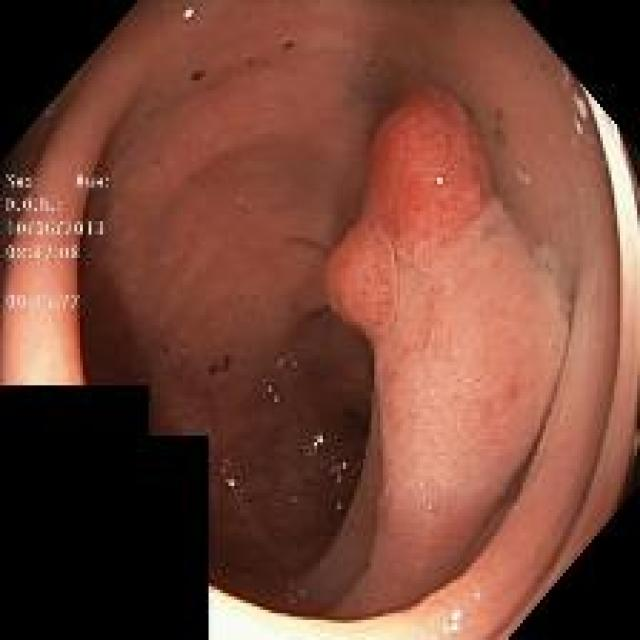Polyps: (361, 88, 492, 266), (325, 224, 396, 335)
